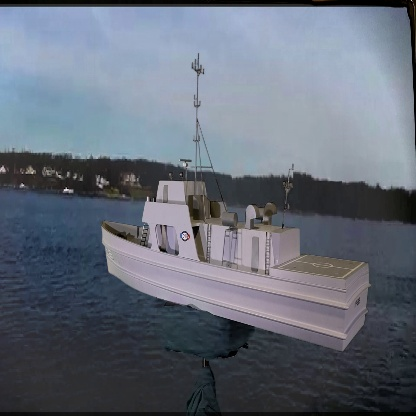YP689: (91, 47, 376, 353)
